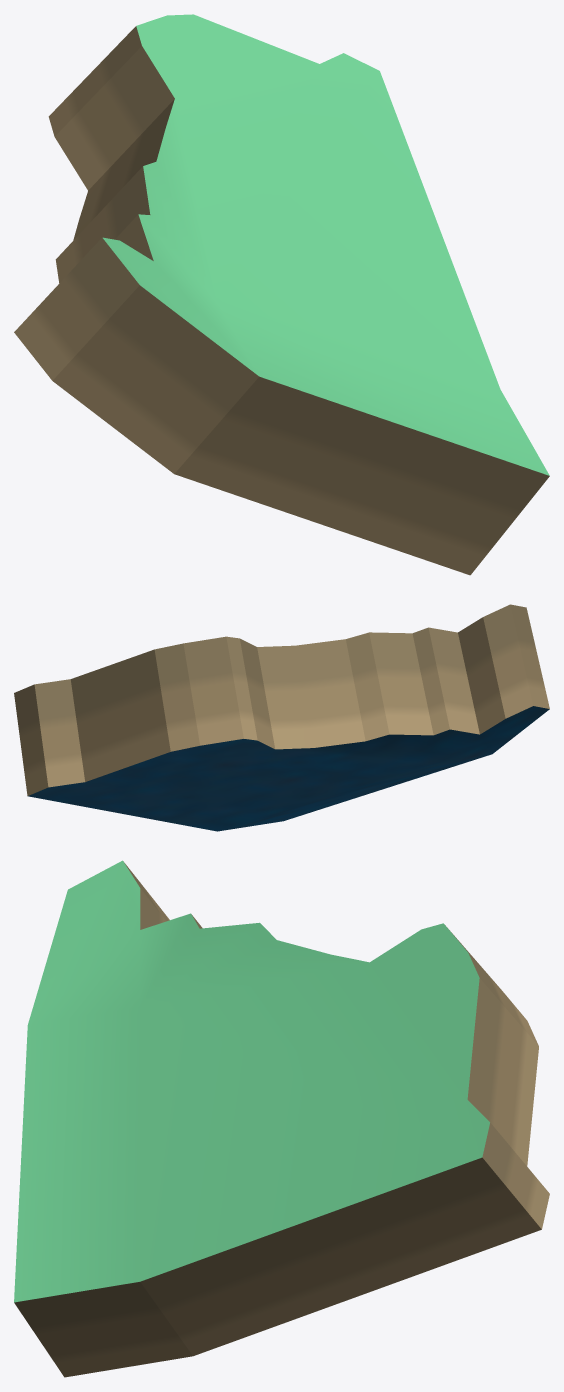
File: 0637_Egypt.glb
3 renders of one model, top to bottom at view 1: azimuth 30°, elevation 25°; view 2: azimuth 150°, elevation 25°; view 3: azimuth 270°, elevation 25°, orthographic. The views are drawn at different scales.
Visible parts, largest first — view 1: part_0; view 2: part_0; view 3: part_0.
Boxes of the visible parts, x1=… form: part_0: x1=14, y1=14, x2=549, y2=575; part_0: x1=14, y1=604, x2=549, y2=831; part_0: x1=14, y1=860, x2=549, y2=1377.
Bounding box in the file's own units: 0.8584 × 0.663 × 0.8123.
Materials: 1 (1 with a texture image).
